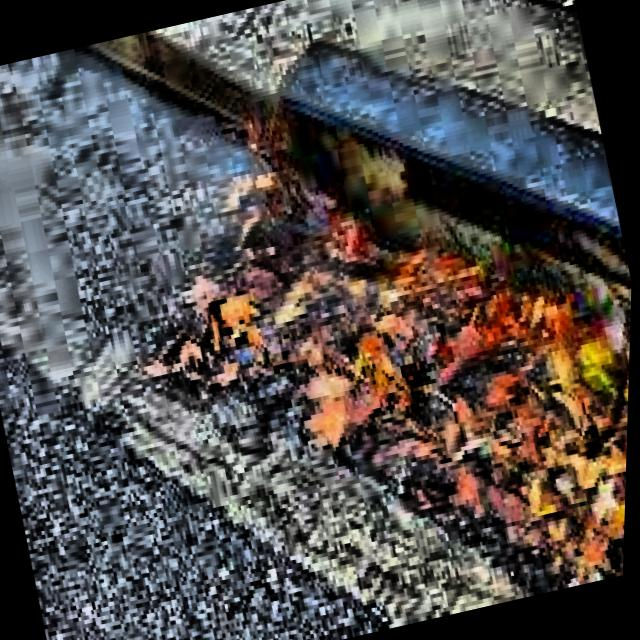clogged_drains: (152, 104, 633, 593)
